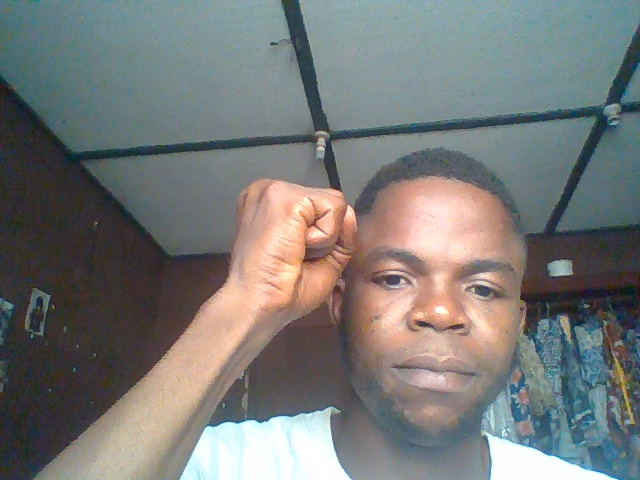Unity: (230, 175, 362, 320)
